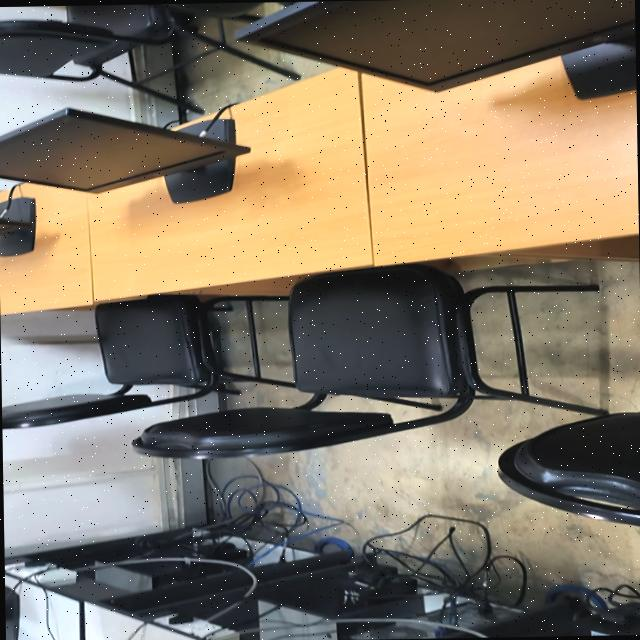Chair: (133, 262, 608, 458), (1, 293, 293, 428), (498, 410, 640, 525), (0, 3, 177, 80)
Cpu: (349, 595, 521, 639)
Monitor: (236, 0, 636, 98), (0, 107, 250, 202), (0, 197, 35, 255)
